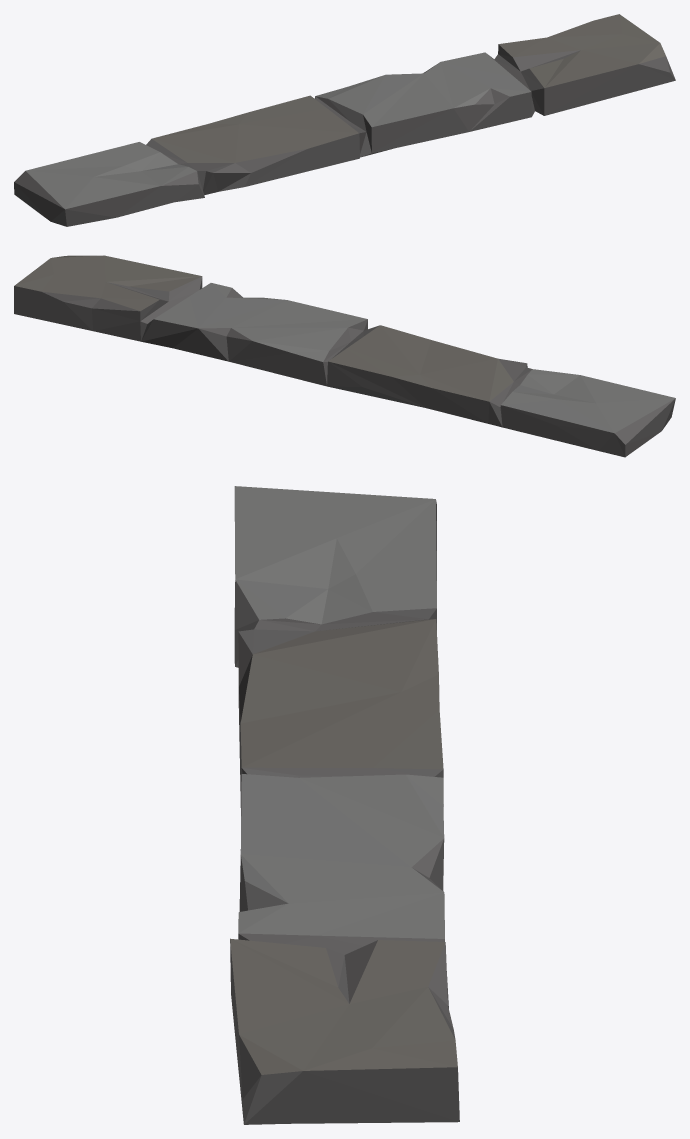
Rendered from SM_Env_Wall_Trim_Floor_02.FBX.
3 views of the same model, one above another, from view 1: azimuth 30°, elevation 25°; view 2: azimuth 150°, elevation 25°; view 3: azimuth 270°, elevation 25° (orthographic). The views are drawn at different scales.
Visible parts, largest first — view 1: SM_Env_Wall_Trim_Floor_02; view 2: SM_Env_Wall_Trim_Floor_02; view 3: SM_Env_Wall_Trim_Floor_02.
Part boxes in pixels (x1,y1,x2,y2): SM_Env_Wall_Trim_Floor_02: (14,14,675,226); SM_Env_Wall_Trim_Floor_02: (14,255,675,457); SM_Env_Wall_Trim_Floor_02: (230,486,459,1124).
Size of what is drawn, in the model's own units: 495 by 80.97 by 24.85.
